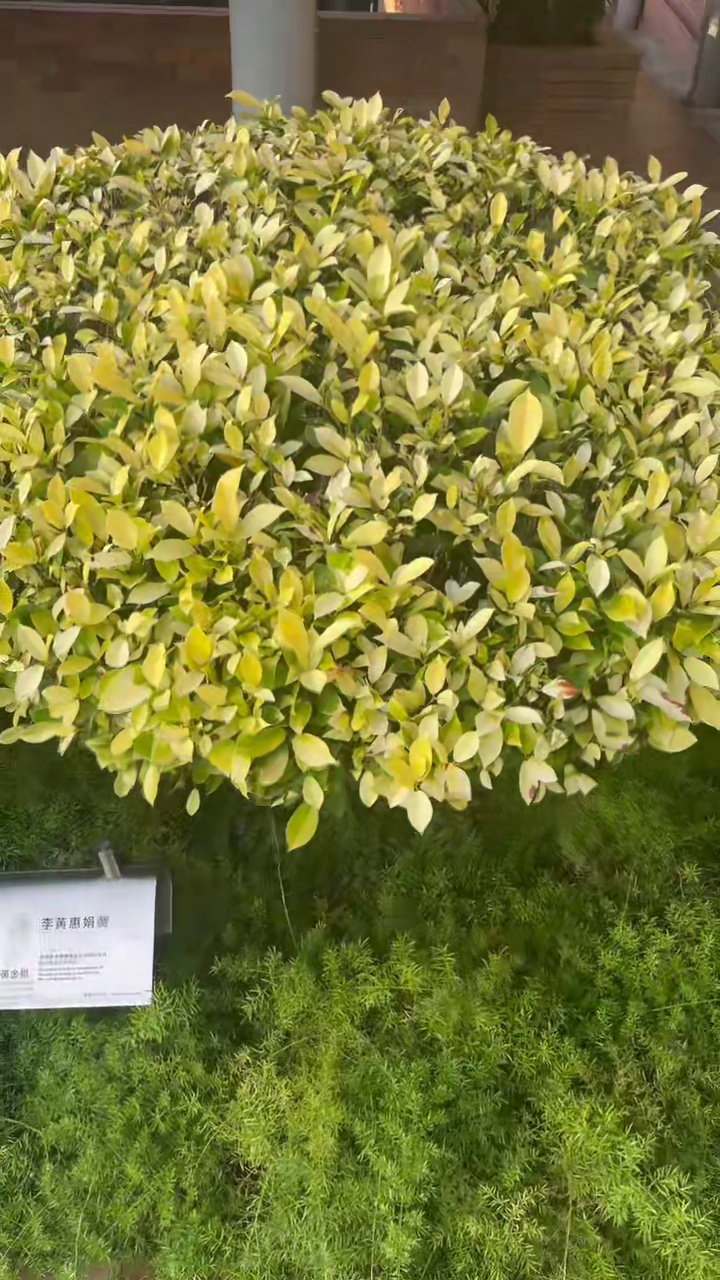Golden-leaves Fig: (0, 93, 719, 849)
